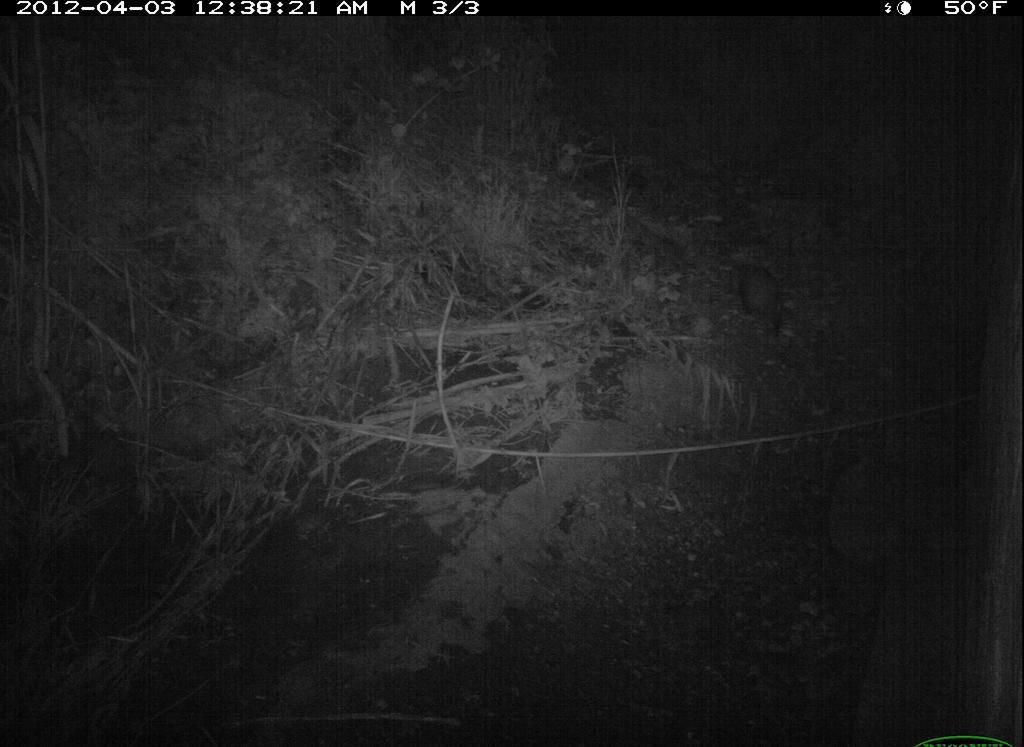opossum: (719, 254, 806, 347)
